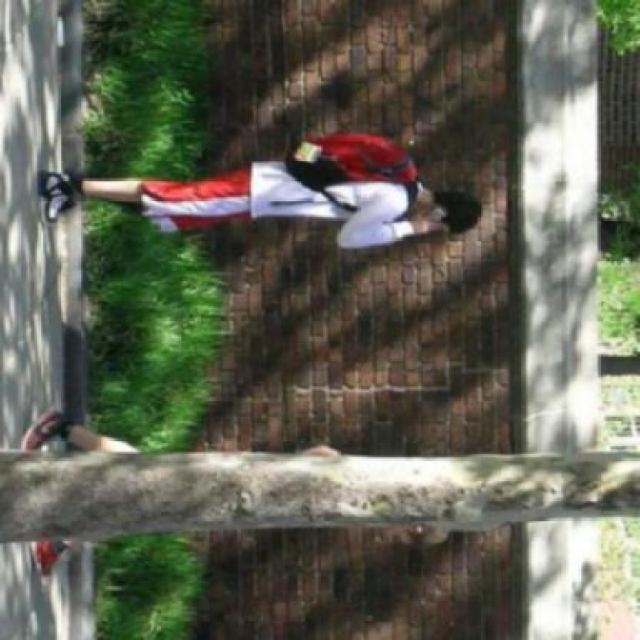Person: (26, 132, 488, 257)
